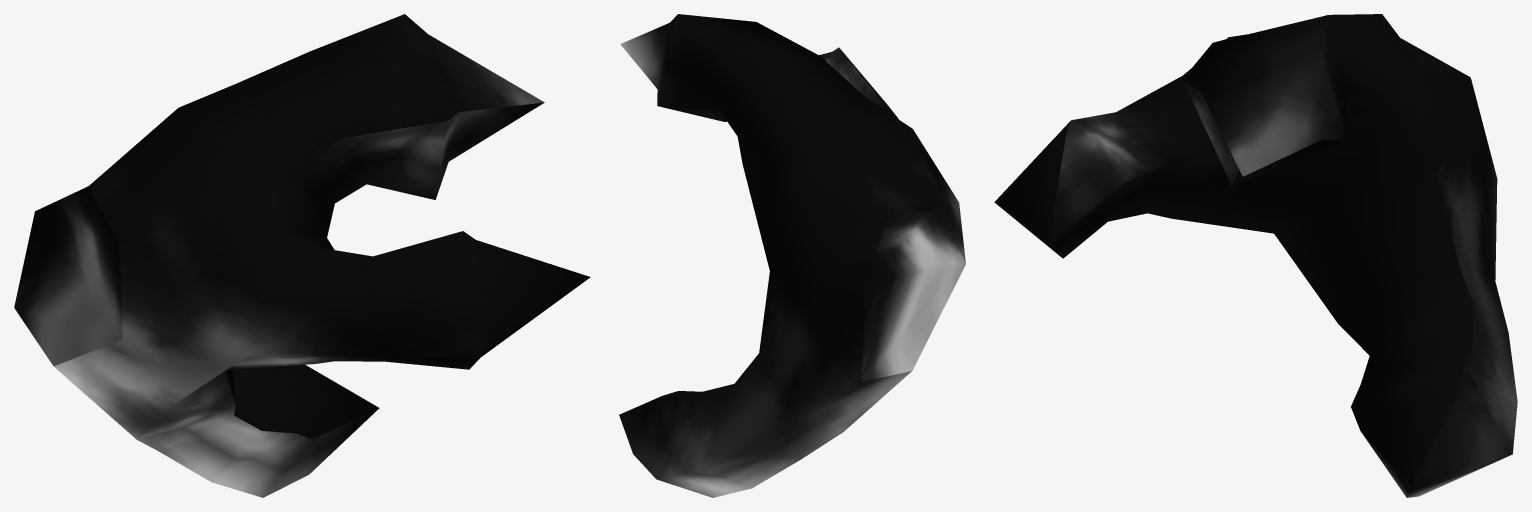
File: 0512_zhuazi_qiladina.glb
The picture shows the model from 3 angles, left to right: view 1: azimuth 30°, elevation 25°; view 2: azimuth 150°, elevation 25°; view 3: azimuth 270°, elevation 25°; orthographic projection. The views are drawn at different scales.
Bounding box in the file's own units: 1.91 × 2.2 × 2.08.
Materials: 1 (1 with a texture image).
